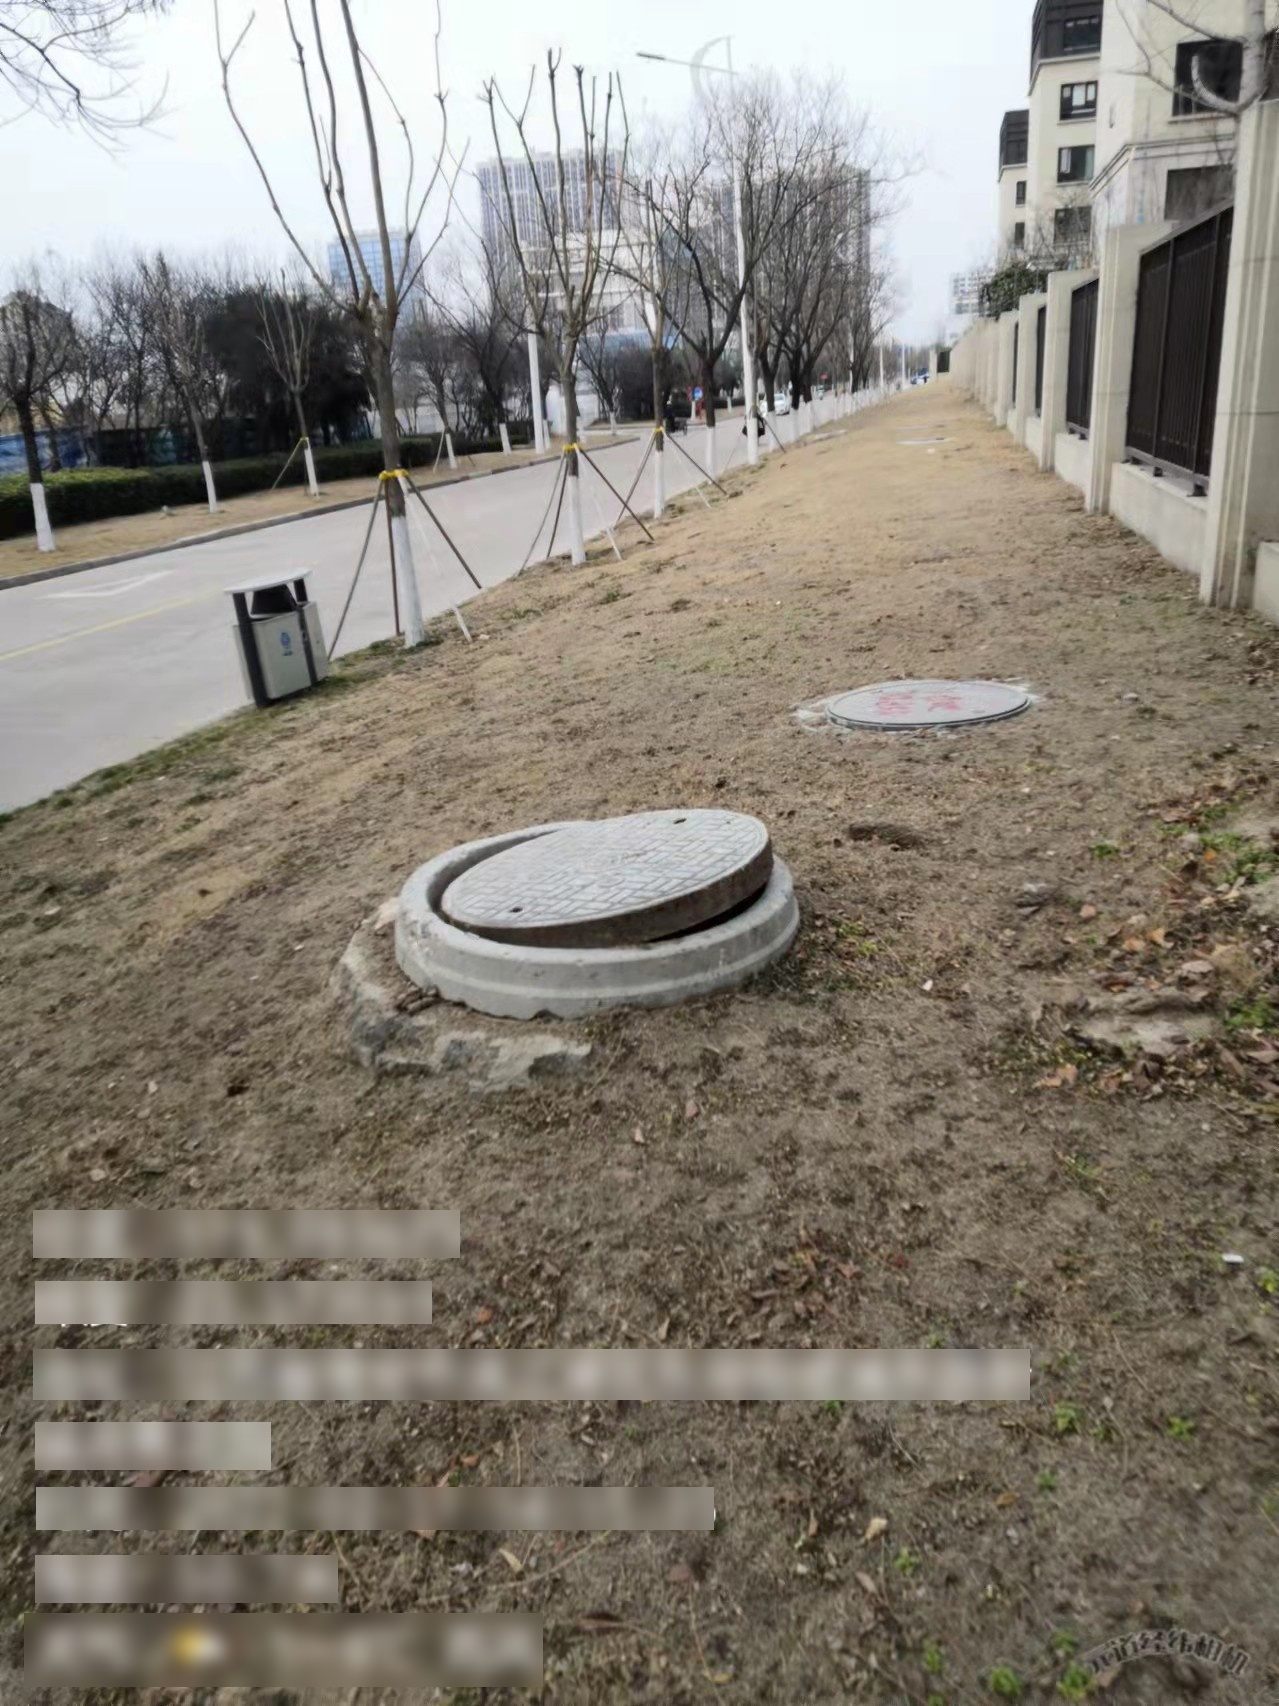well: (403, 807, 806, 981), (799, 674, 1034, 729)
